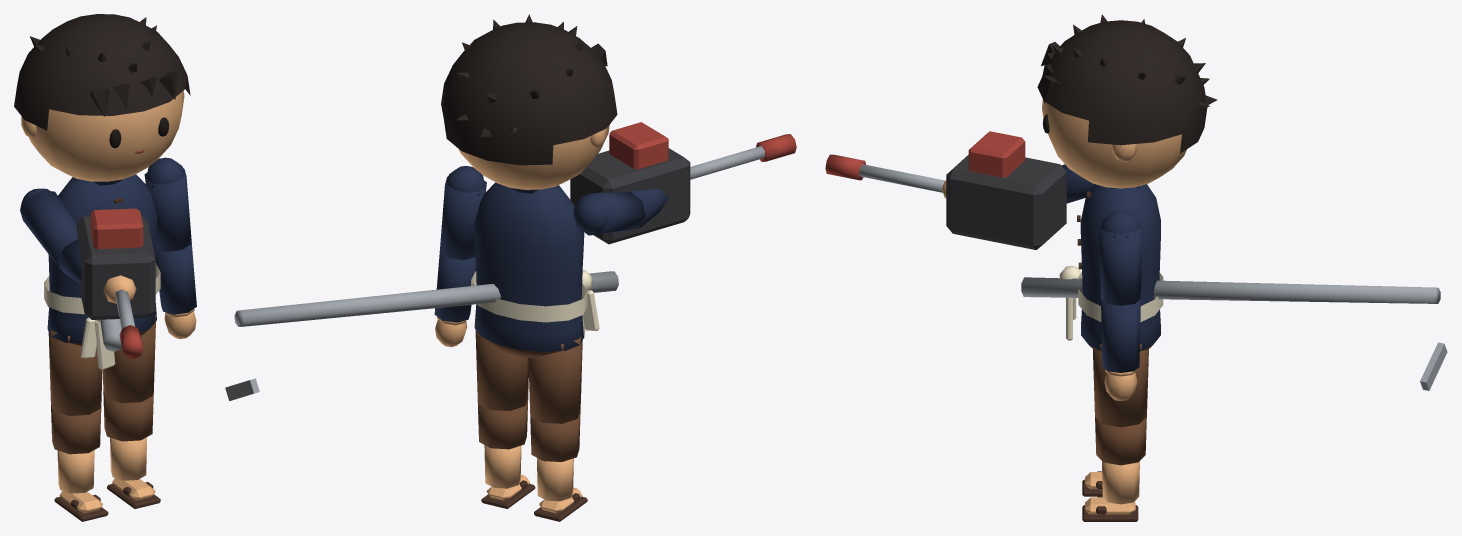
File: south_longtail_driver.glb
3 views of the same model, side by side, from view 1: azimuth 30°, elevation 25°; view 2: azimuth 150°, elevation 25°; view 3: azimuth 270°, elevation 25° (orthographic).
Visible parts, largest first — view 1: head, prop_longtail_engine, body, shin_R, shin_L, leg_R, arm_L, forearm_L, arm_R, leg_L, forearm_R; view 2: head, body, prop_longtail_engine, shin_R, shin_L, leg_R, arm_L, leg_L, arm_R, forearm_L, forearm_R; view 3: head, prop_longtail_engine, body, shin_L, arm_L, forearm_L, leg_L.
Boxes of the visible parts, <box> form: head: <box>14,14,190,181</box>; prop_longtail_engine: <box>76,208,155,359</box>; body: <box>44,174,160,369</box>; shin_R: <box>51,403,108,521</box>; shin_L: <box>103,390,160,508</box>; leg_R: <box>48,328,102,415</box>; arm_L: <box>144,157,191,251</box>; forearm_L: <box>155,243,196,338</box>; arm_R: <box>20,188,78,269</box>; leg_L: <box>102,315,156,403</box>; forearm_R: <box>57,239,136,303</box>; head: <box>441,14,617,189</box>; body: <box>471,182,599,358</box>; prop_longtail_engine: <box>225,122,796,400</box>; shin_R: <box>530,411,587,521</box>; shin_L: <box>478,398,535,508</box>; leg_R: <box>528,336,582,423</box>; arm_L: <box>439,166,486,259</box>; leg_L: <box>475,322,528,410</box>; arm_R: <box>573,192,645,235</box>; forearm_L: <box>434,252,475,347</box>; forearm_R: <box>630,188,668,227</box>; head: <box>1037,14,1217,188</box>; prop_longtail_engine: <box>825,131,1447,390</box>; body: <box>1059,184,1163,351</box>; shin_L: <box>1082,417,1146,521</box>; arm_L: <box>1099,210,1142,305</box>; forearm_L: <box>1101,299,1140,400</box>; leg_L: <box>1093,344,1148,427</box>.
Bounding box in the file's own units: 0.8899 × 1.48 × 1.76.
